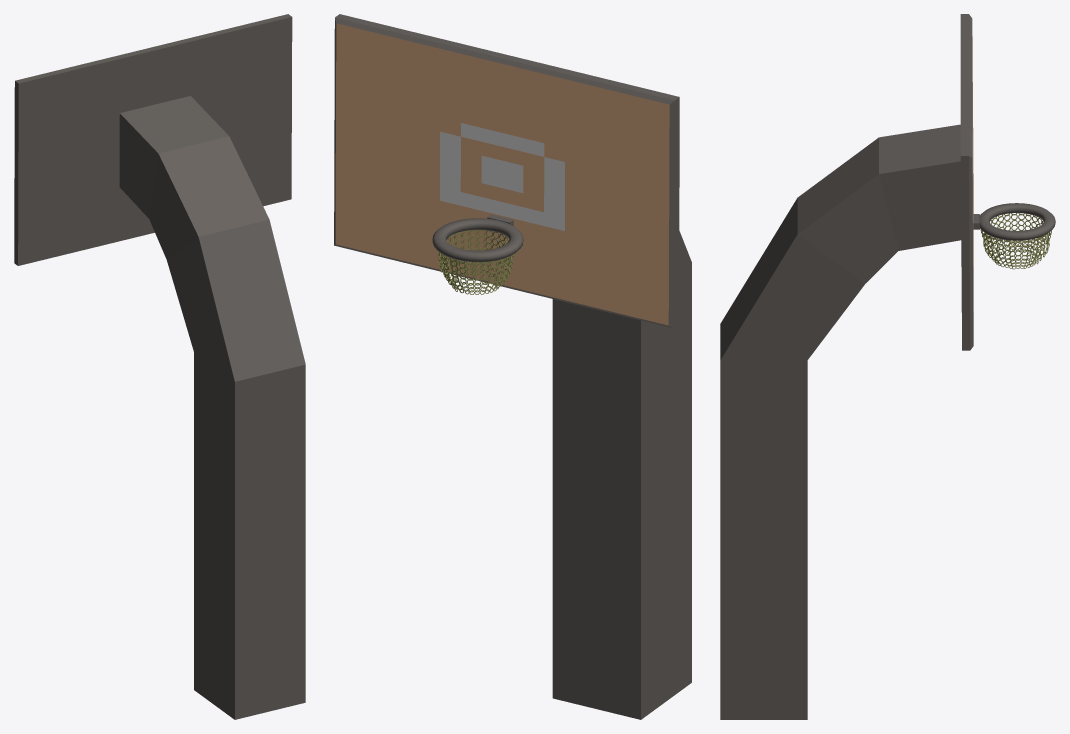
File: sket.fbx
3 views of the same model, side by side, from view 1: azimuth 30°, elevation 25°; view 2: azimuth 150°, elevation 25°; view 3: azimuth 270°, elevation 25° (orthographic). The views are drawn at different scales.
Parts seen in each view (by area): view 1: Cube; view 2: Cube; view 3: Cube.
Part boxes in pixels (<box>): Cube: <box>14,14,305,719</box>; Cube: <box>334,14,691,719</box>; Cube: <box>720,14,1055,719</box>.
Size of what is drawn, in the model's own units: 329 by 665 by 328.
